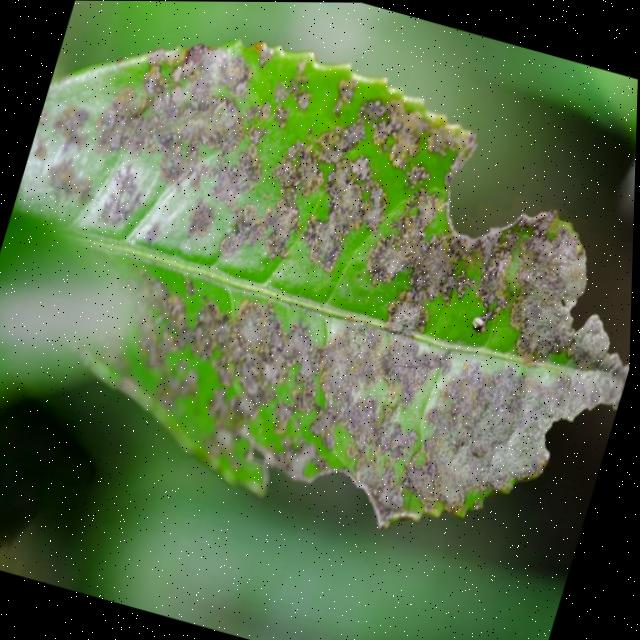Tea red rust: (0, 0, 640, 509)
